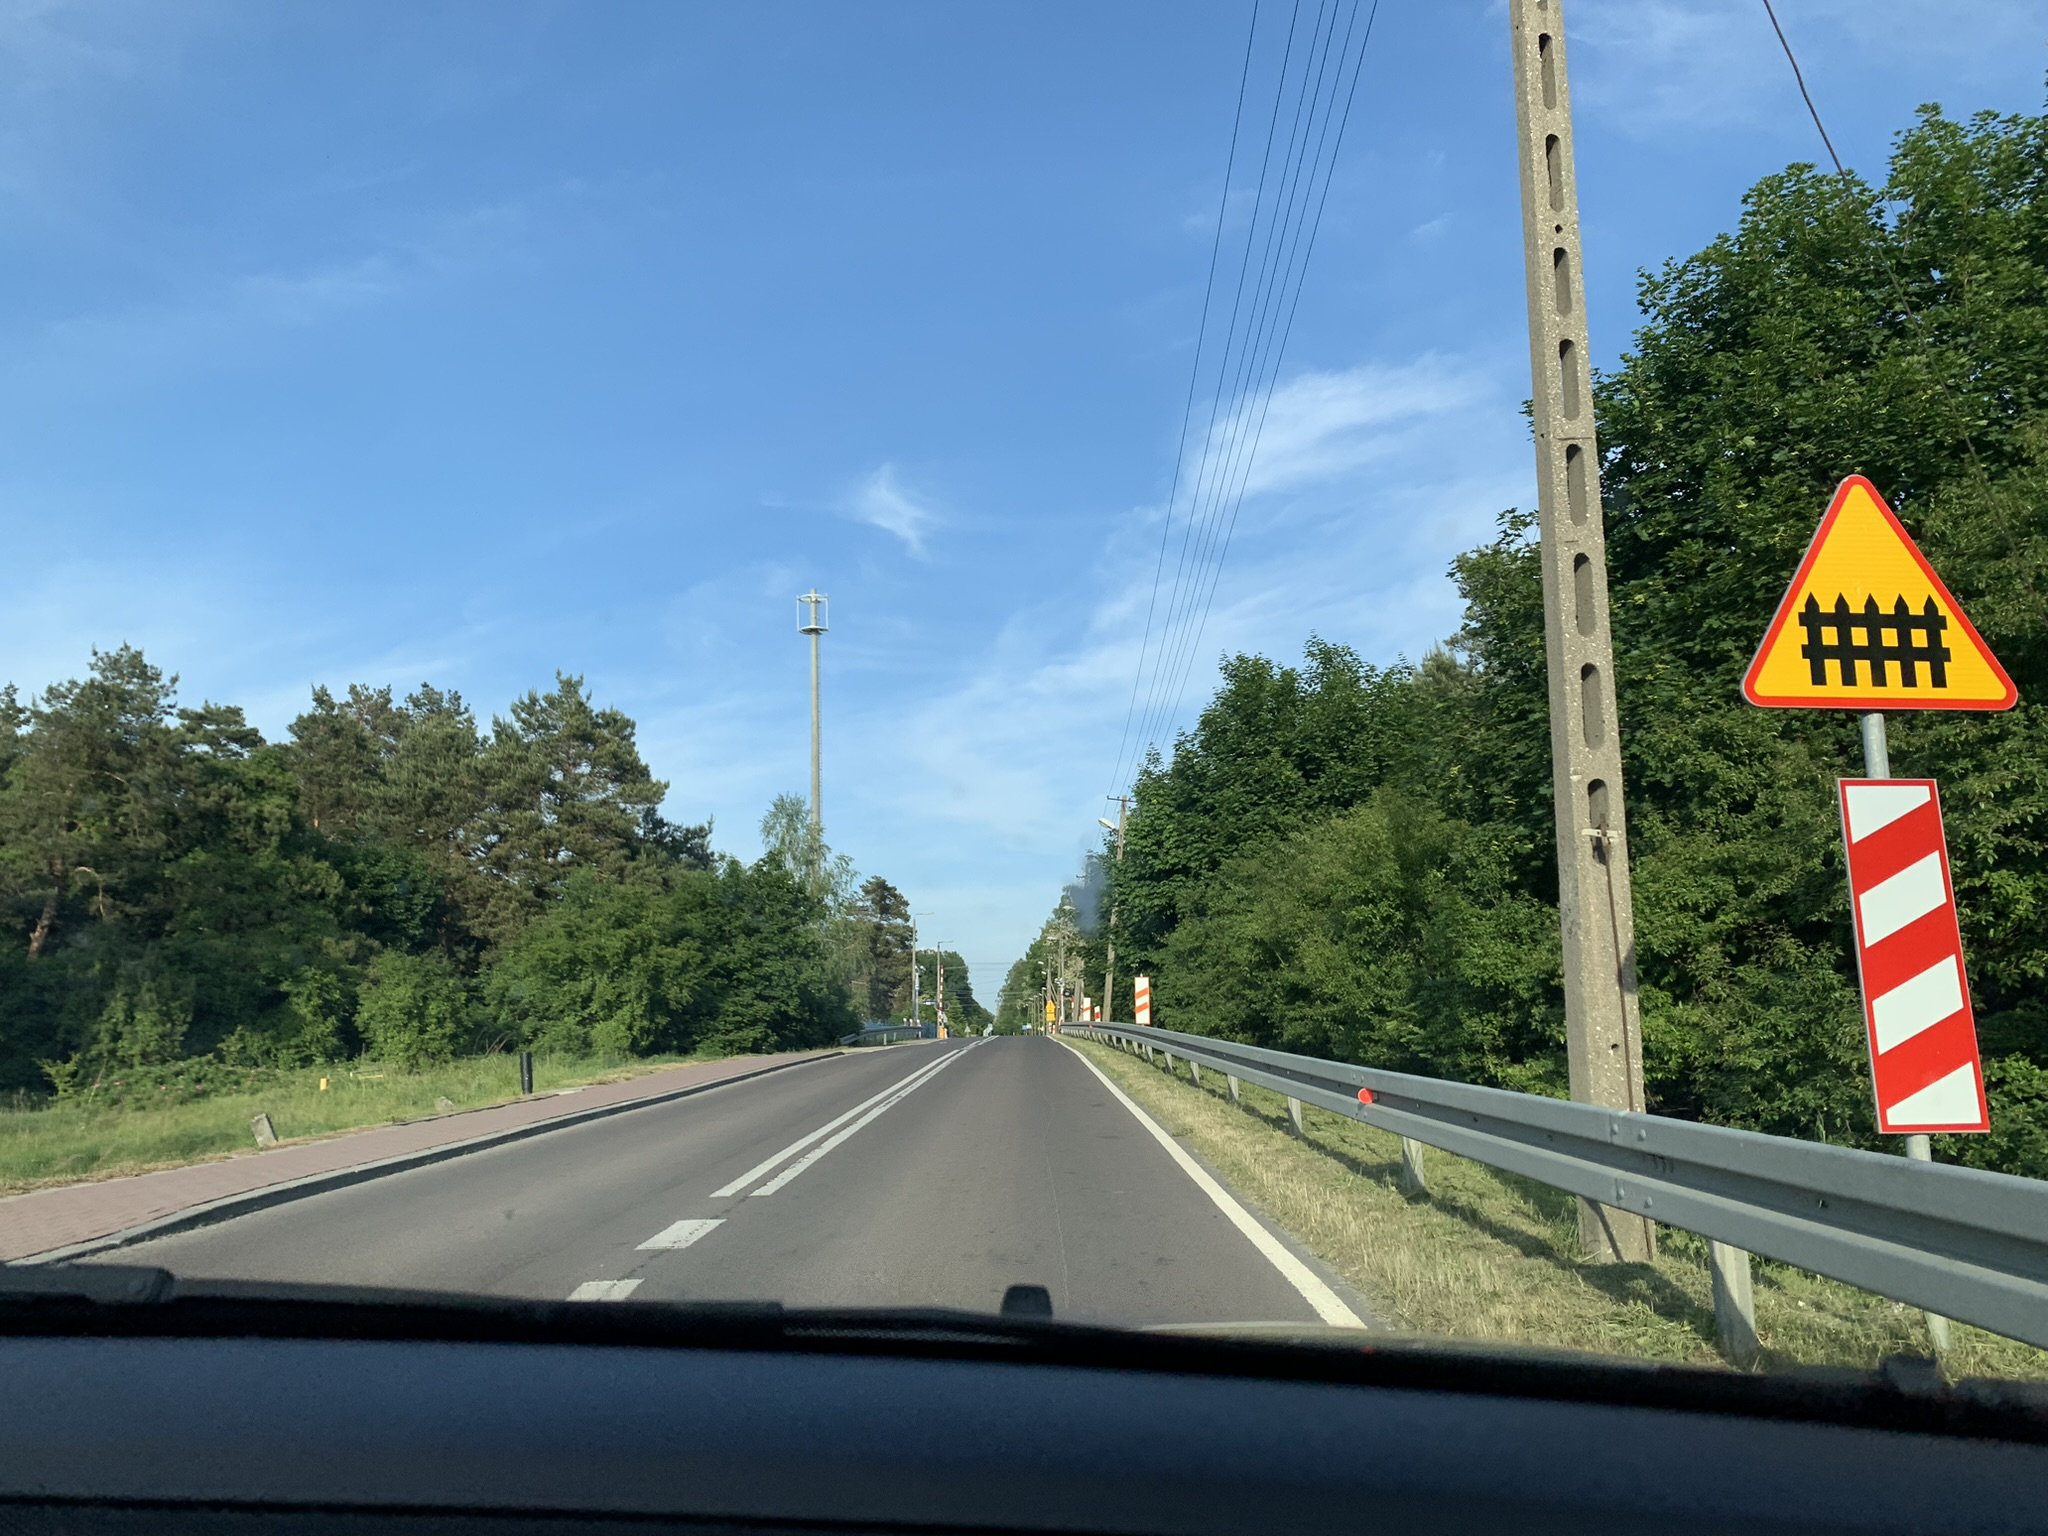a9: (1793, 587, 1958, 695)
